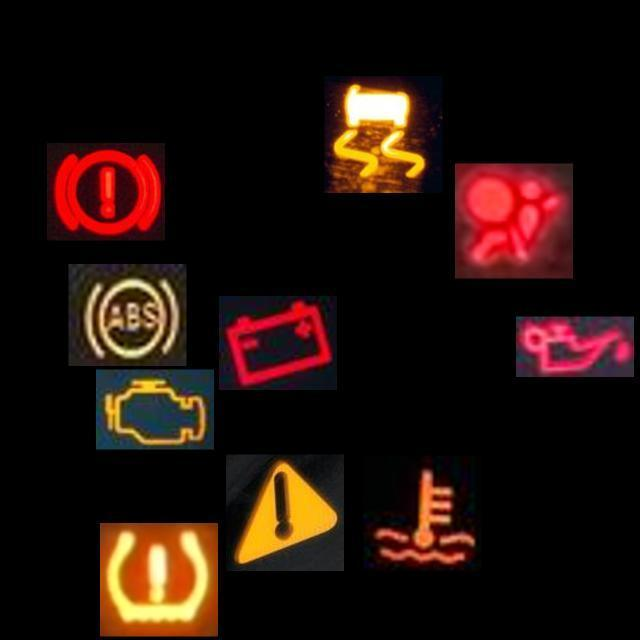Central Warning lamp: (226, 454, 344, 572)
Engine cooling system: (364, 456, 482, 570)
